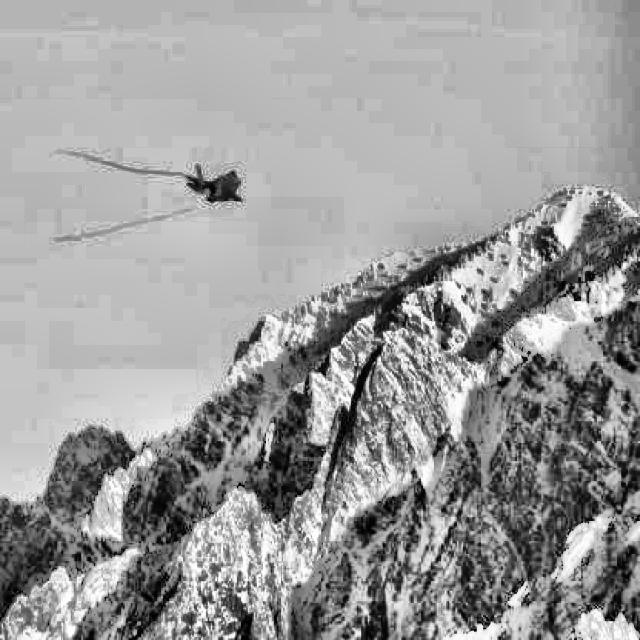F35: (183, 164, 246, 204)
